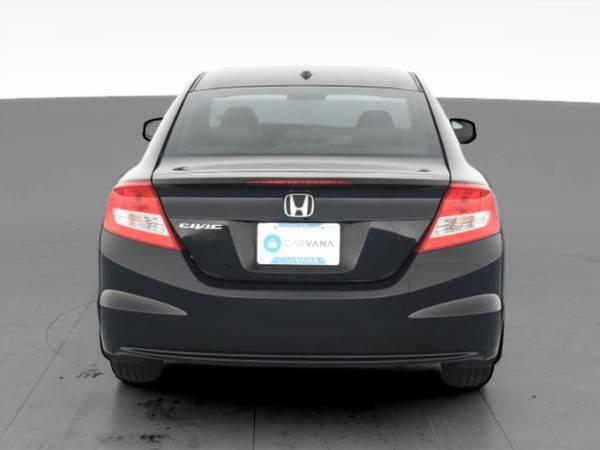Left_Taillight: (97, 179, 180, 250)
Rear_Bumper: (97, 232, 504, 370)
Rear_Windshield: (161, 83, 444, 160)
Right_Taillight: (418, 183, 501, 254)
Roof: (141, 65, 467, 164)
Tailgate: (124, 159, 492, 289)
